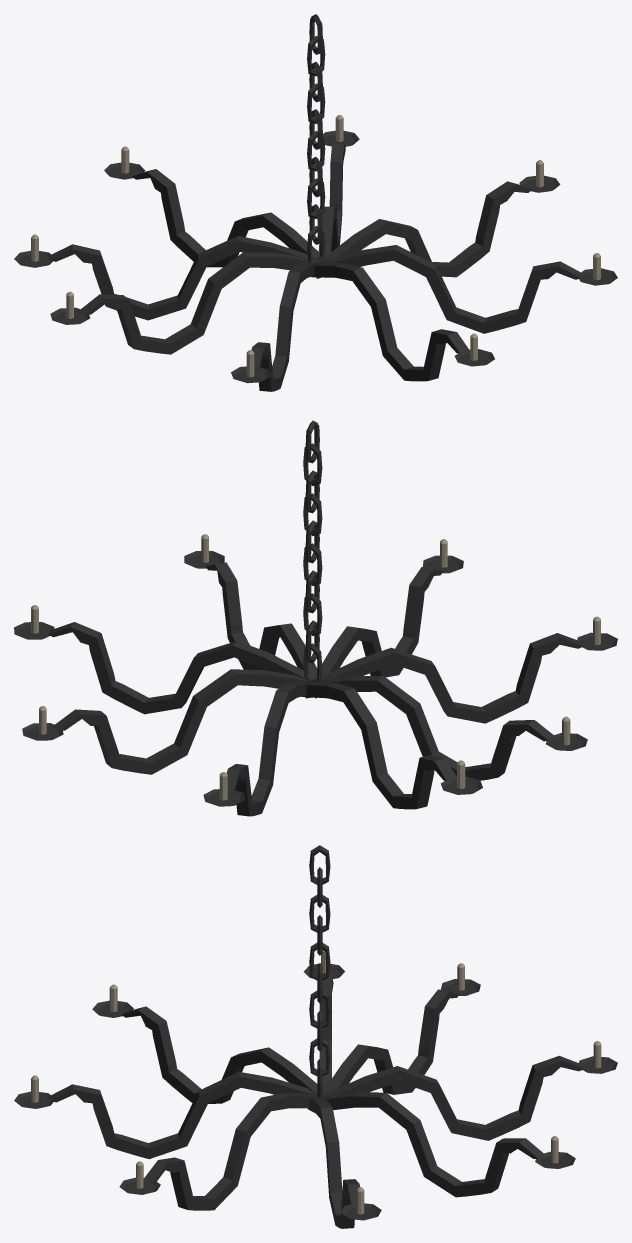
The model's file is CelineLamp.fbx.
The picture shows the model from 3 angles, top to bottom: view 1: azimuth 30°, elevation 25°; view 2: azimuth 150°, elevation 25°; view 3: azimuth 270°, elevation 25°; orthographic projection. The views are drawn at different scales.
Visible parts, largest first — view 1: CelineLamp; view 2: CelineLamp; view 3: CelineLamp.
Boxes of the visible parts, x1=… form: CelineLamp: x1=14, y1=14, x2=617, y2=391; CelineLamp: x1=14, y1=420, x2=617, y2=816; CelineLamp: x1=14, y1=845, x2=617, y2=1228.
Size of the model in its own units: 1346 by 750 by 1334.
